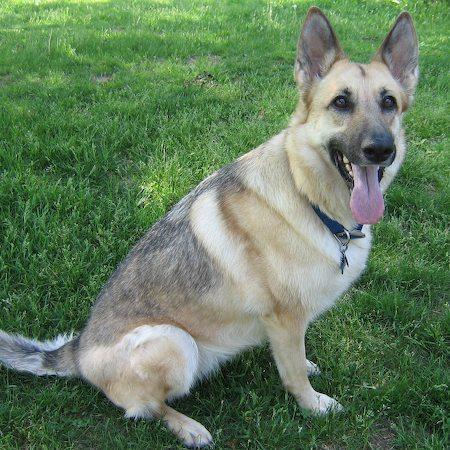German_shepherd: (1, 5, 418, 448)
